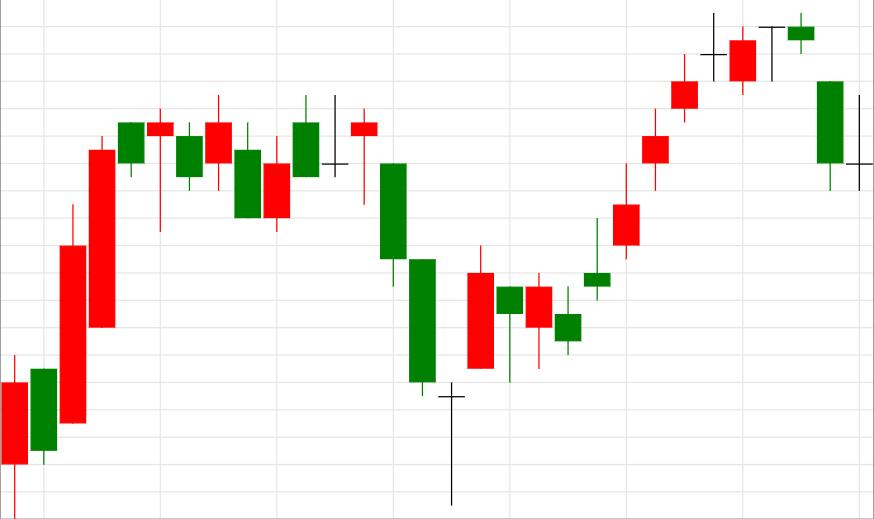morning_star_rise: (352, 108, 495, 505)
